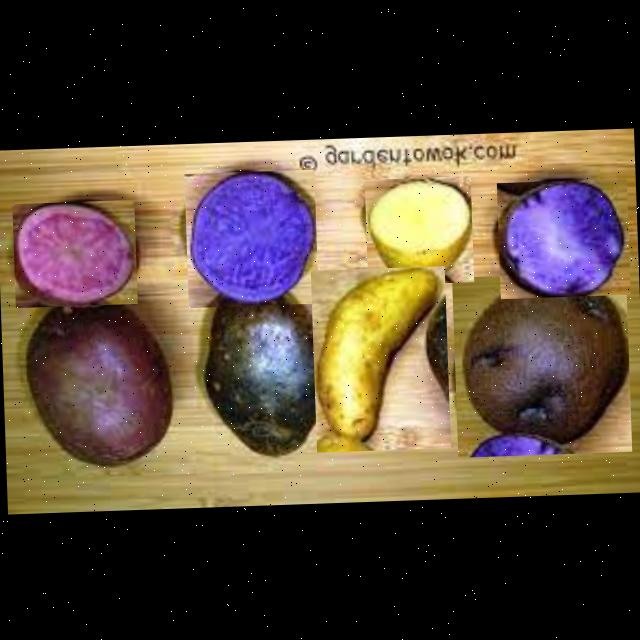Damaged potato: (450, 270, 630, 457), (15, 282, 177, 473), (200, 274, 344, 460), (310, 264, 450, 452)
Defected potato: (182, 168, 318, 306), (496, 178, 630, 298), (10, 198, 136, 307)
Potato: (363, 174, 473, 284)
